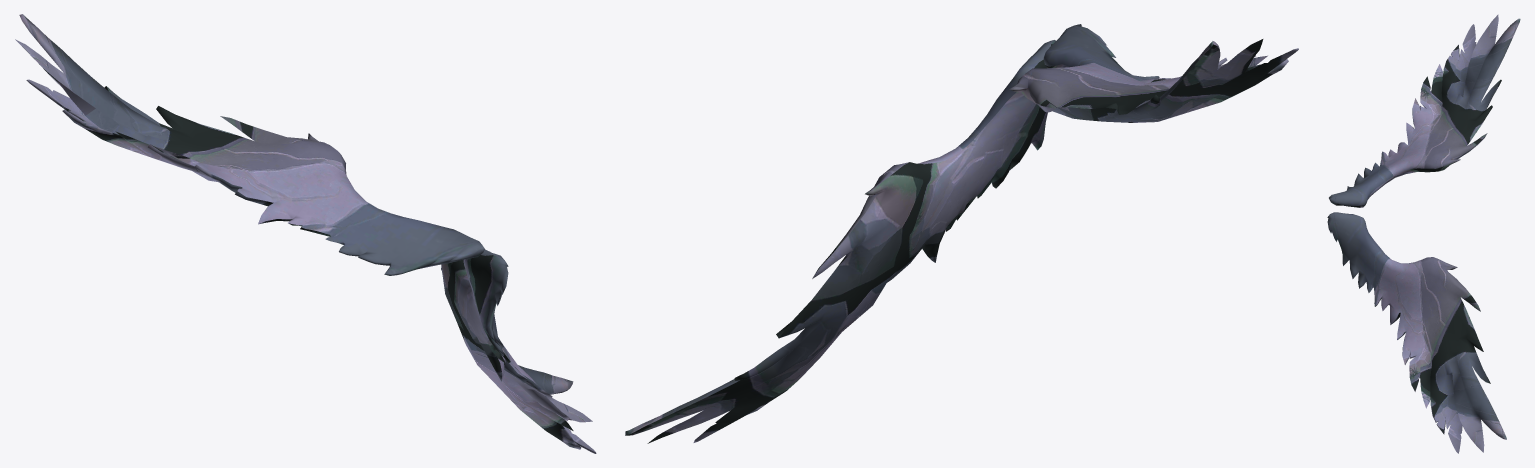
The model's file is Wing3.FBX.
The picture shows the model from 3 angles, left to right: view 1: azimuth 30°, elevation 25°; view 2: azimuth 150°, elevation 25°; view 3: azimuth 270°, elevation 25°; orthographic projection. The views are drawn at different scales.
Parts seen in each view (by area): view 1: Mesh_0043; view 2: Mesh_0043; view 3: Mesh_0043.
Part boxes in pixels (bbox=[...]): Mesh_0043: bbox=[15, 14, 596, 453]; Mesh_0043: bbox=[625, 24, 1298, 443]; Mesh_0043: bbox=[1327, 14, 1520, 453].
Bounding box in the file's own units: 347 × 304 × 181.
